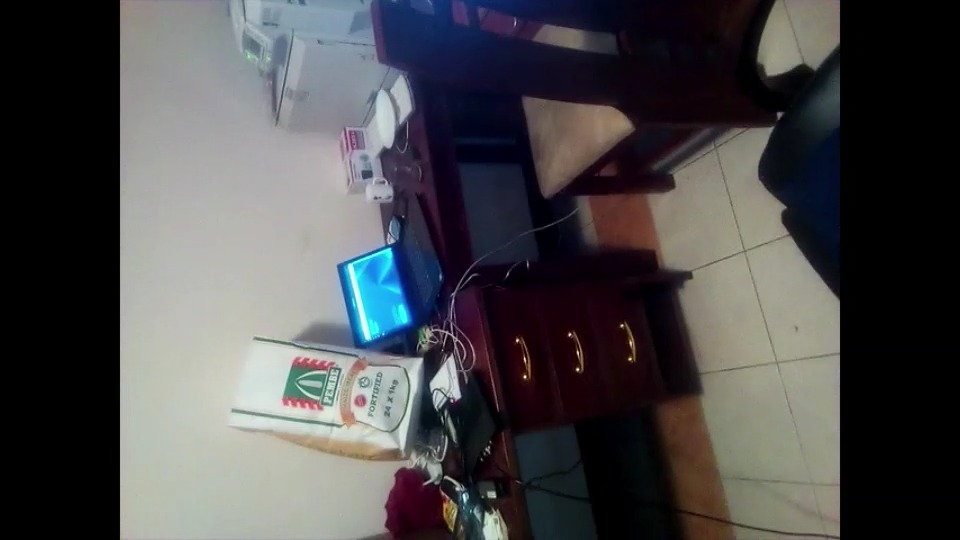maize_flour_green_label: (231, 340, 425, 454)
